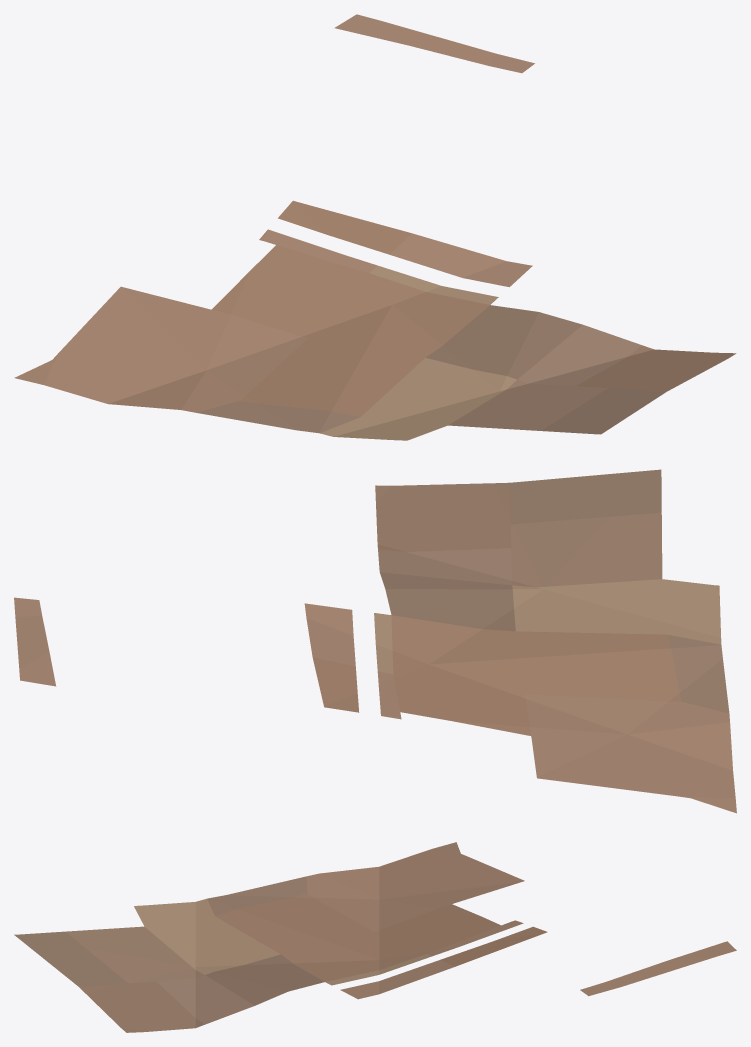
Rendered from farm_-7_12_soil.glb.
3 views of the same model, one above another, from view 1: azimuth 30°, elevation 25°; view 2: azimuth 150°, elevation 25°; view 3: azimuth 270°, elevation 25° (orthographic). The views are drawn at different scales.
Parts seen in each view (by area): view 1: geometry_0; view 2: geometry_0; view 3: geometry_0.
Boxes of the visible parts, bbox=[...] form: geometry_0: bbox=[14, 14, 736, 440]; geometry_0: bbox=[14, 469, 736, 813]; geometry_0: bbox=[14, 842, 736, 1032].
Bounding box in the file's own units: 258 × 51.65 × 315.
